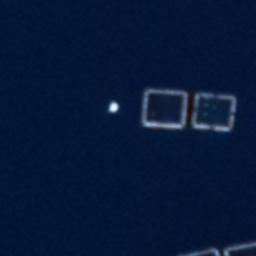square_solid: (137, 83, 194, 133), (186, 89, 238, 136)
